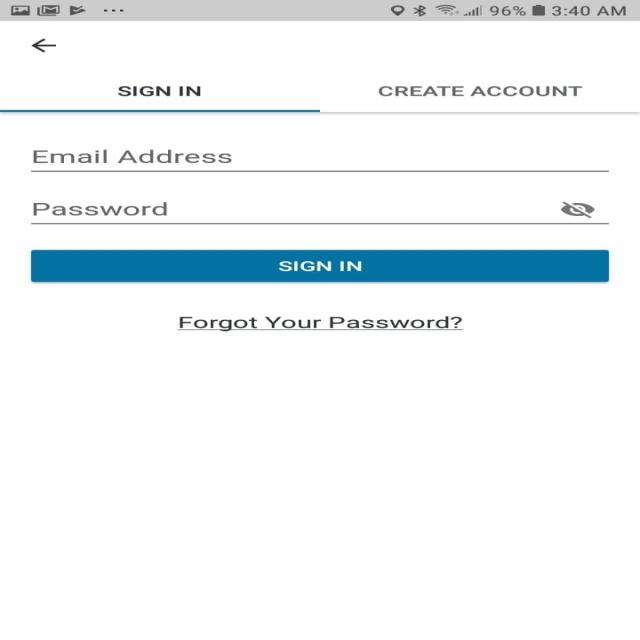EditText: (31, 149, 609, 172), (31, 202, 609, 224)
Icon: (559, 201, 595, 219), (31, 38, 57, 53)
Text: (177, 315, 463, 332), (33, 149, 232, 164), (378, 85, 582, 96), (33, 201, 167, 216), (117, 85, 199, 96)
TextButton: (31, 249, 609, 282)
